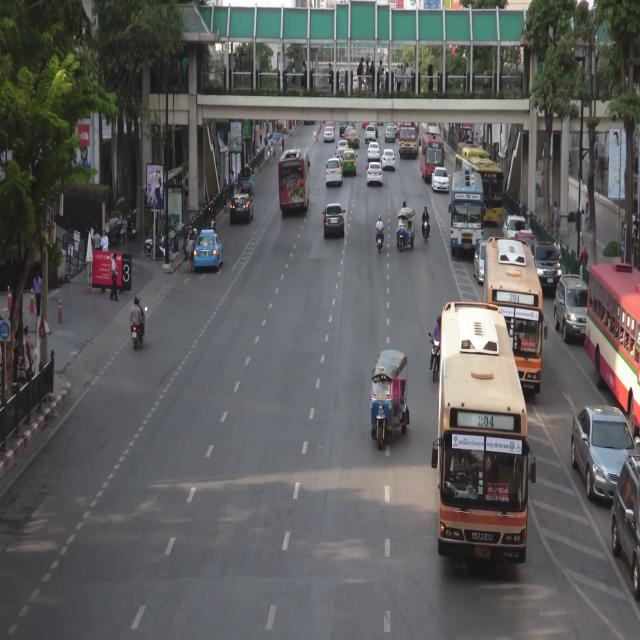bus: (434, 305, 526, 569), (586, 264, 640, 431), (486, 235, 540, 390), (455, 146, 503, 226), (449, 170, 481, 257), (279, 149, 309, 208), (421, 132, 443, 182), (399, 122, 418, 156)
car: (572, 406, 637, 504), (612, 456, 640, 593), (372, 351, 412, 444), (553, 274, 590, 342), (533, 243, 562, 288), (397, 209, 415, 248), (323, 205, 344, 236), (504, 213, 530, 236), (231, 194, 253, 221), (475, 241, 485, 282), (433, 168, 450, 192), (327, 159, 341, 183), (367, 163, 382, 185), (382, 150, 395, 170), (241, 168, 251, 190), (367, 144, 380, 159), (335, 148, 346, 164), (365, 127, 376, 142), (385, 127, 396, 142), (339, 121, 349, 136), (324, 128, 335, 141), (369, 123, 378, 136), (338, 140, 348, 148), (325, 121, 335, 127)
pedestrian: (109, 250, 119, 302), (22, 325, 33, 370), (34, 269, 42, 318), (173, 235, 180, 276), (552, 200, 559, 236), (580, 242, 588, 266), (92, 227, 100, 251), (101, 229, 109, 253), (581, 206, 586, 244), (230, 170, 236, 196), (224, 178, 229, 205), (250, 170, 255, 196), (265, 133, 270, 159), (258, 125, 263, 143), (280, 132, 285, 150), (555, 239, 560, 254), (274, 141, 277, 164)
taxi: (194, 230, 225, 268), (342, 149, 357, 178), (516, 229, 535, 244), (347, 130, 359, 148), (346, 127, 354, 140)
